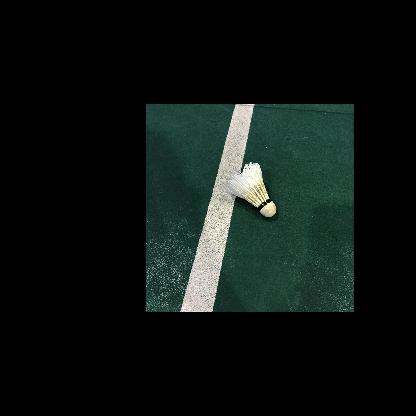ball_single: (226, 162, 276, 217)
